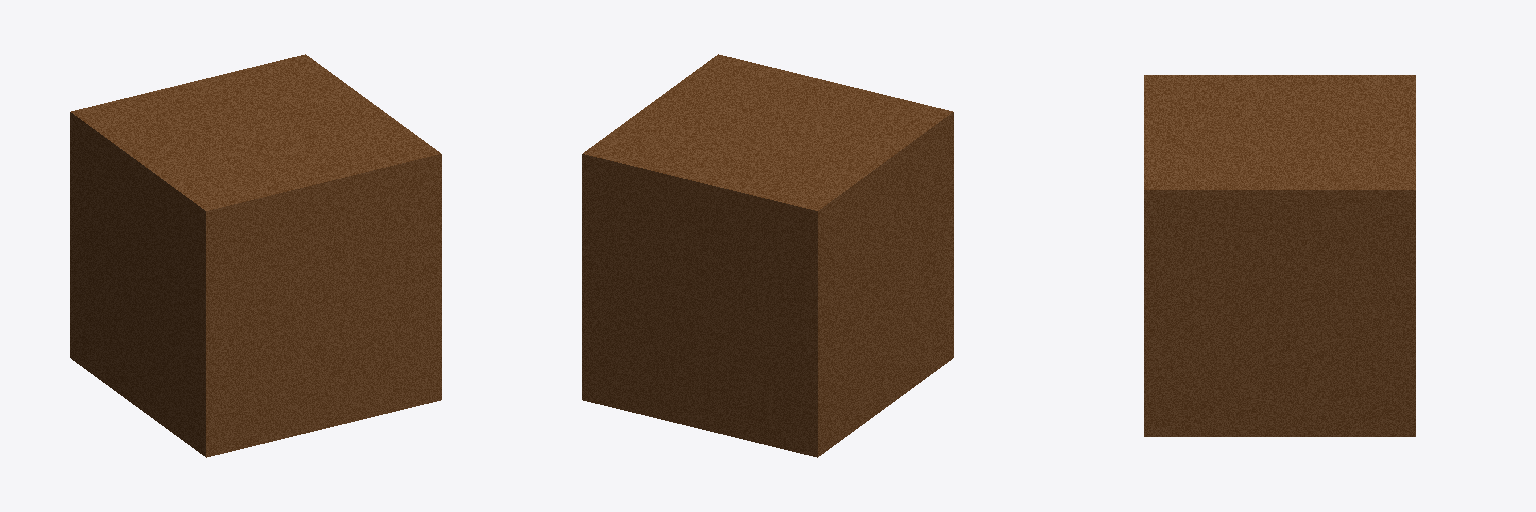
The picture shows the model from 3 angles: view 1: azimuth 30°, elevation 25°; view 2: azimuth 150°, elevation 25°; view 3: azimuth 270°, elevation 25°; orthographic projection.
Visible parts, largest first — view 1: Cube; view 2: Cube; view 3: Cube.
Part boxes in pixels (x1,y1,x2,y2): Cube: (70,54,441,457); Cube: (582,54,953,457); Cube: (1144,75,1415,436).
Size of the model in its own units: 1 by 1 by 1.
Materials: 1 (1 with a texture image).